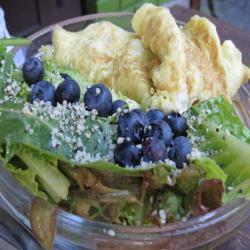omelette: (45, 14, 248, 113)
salad: (21, 145, 249, 222)
